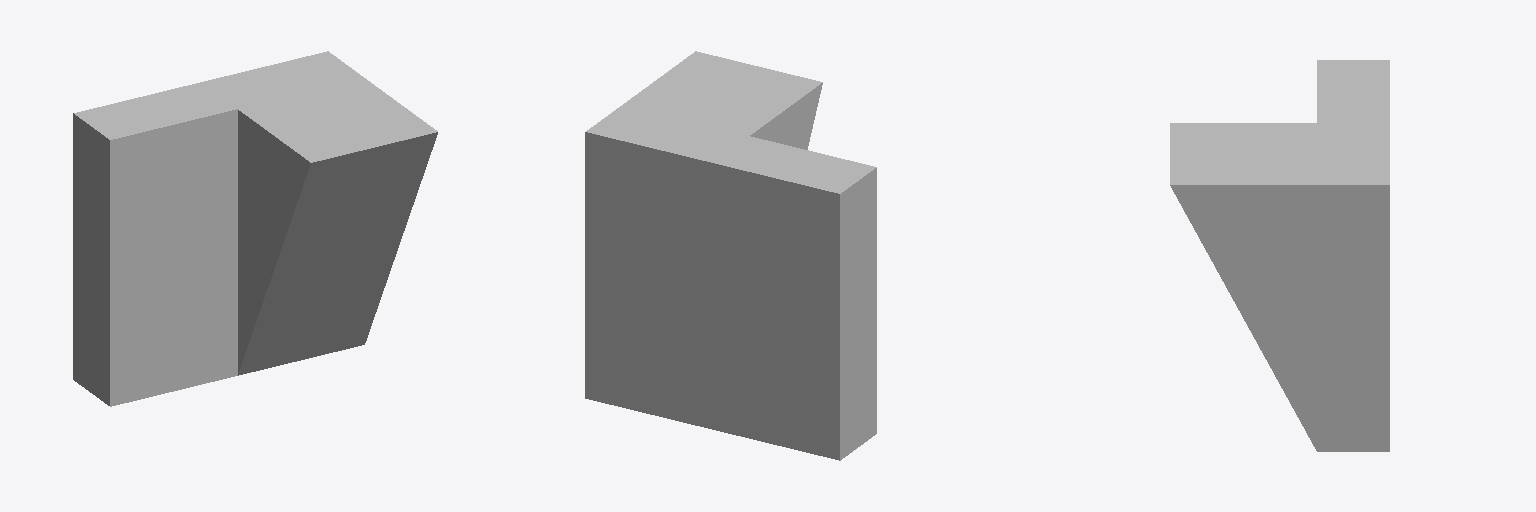
The model's file is E3-Rep03-p01.obj.
3 views of the same model, side by side, from view 1: azimuth 30°, elevation 25°; view 2: azimuth 150°, elevation 25°; view 3: azimuth 270°, elevation 25° (orthographic).
Parts seen in each view (by area): view 1: mesh1, mesh7, mesh3, mesh2, mesh0; view 2: mesh5, mesh3, mesh2, mesh0; view 3: mesh6, mesh3.
Part boxes in pixels (bbox=[...]): mesh1: bbox=[110, 109, 237, 406]; mesh7: bbox=[238, 132, 437, 375]; mesh3: bbox=[74, 51, 437, 162]; mesh2: bbox=[73, 113, 109, 405]; mesh0: bbox=[238, 110, 310, 372]; mesh5: bbox=[585, 132, 839, 460]; mesh3: bbox=[586, 51, 876, 193]; mesh2: bbox=[840, 168, 876, 460]; mesh0: bbox=[750, 83, 822, 149]; mesh6: bbox=[1170, 185, 1389, 451]; mesh3: bbox=[1170, 60, 1389, 184].
Bounding box in the file's own units: 0.04 × 0.04 × 0.03.